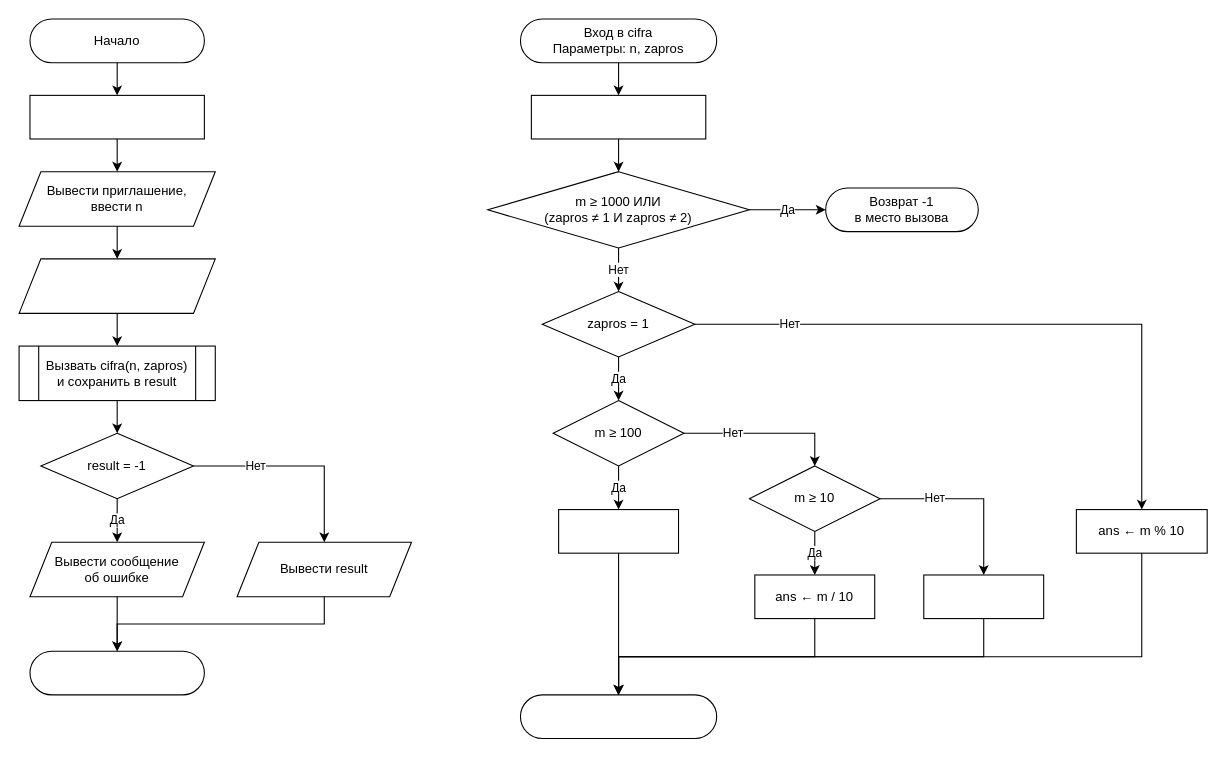
This 1226x758 diagram has some shape labels left out. The shapes that lost their labels are listed below. From the top down, each one's centre as x and y in pixels, then its label:
At pixel 116 116: "Установить локализацию".
At pixel 618 116: "m ← |n|".
At pixel 116 285: "Вывести приглашение, ввести zapros".
At pixel 618 530: "ans ← m / 100".
At pixel 983 596: "ans ← m".
At pixel 116 672: "Конец Код завершения: 0".
At pixel 618 716: "Возврат ans в место вызова функции".
